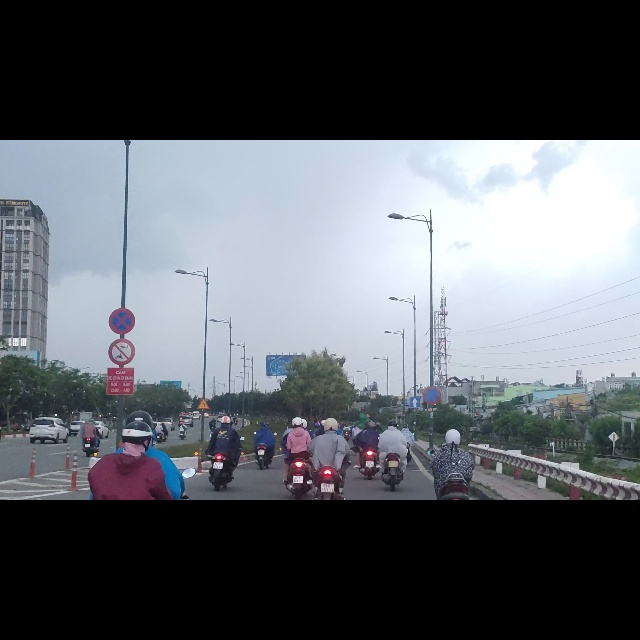bien_chi_dan: (108, 351, 135, 401), (108, 299, 135, 345), (423, 439, 441, 470), (197, 458, 211, 479), (410, 456, 421, 476)
